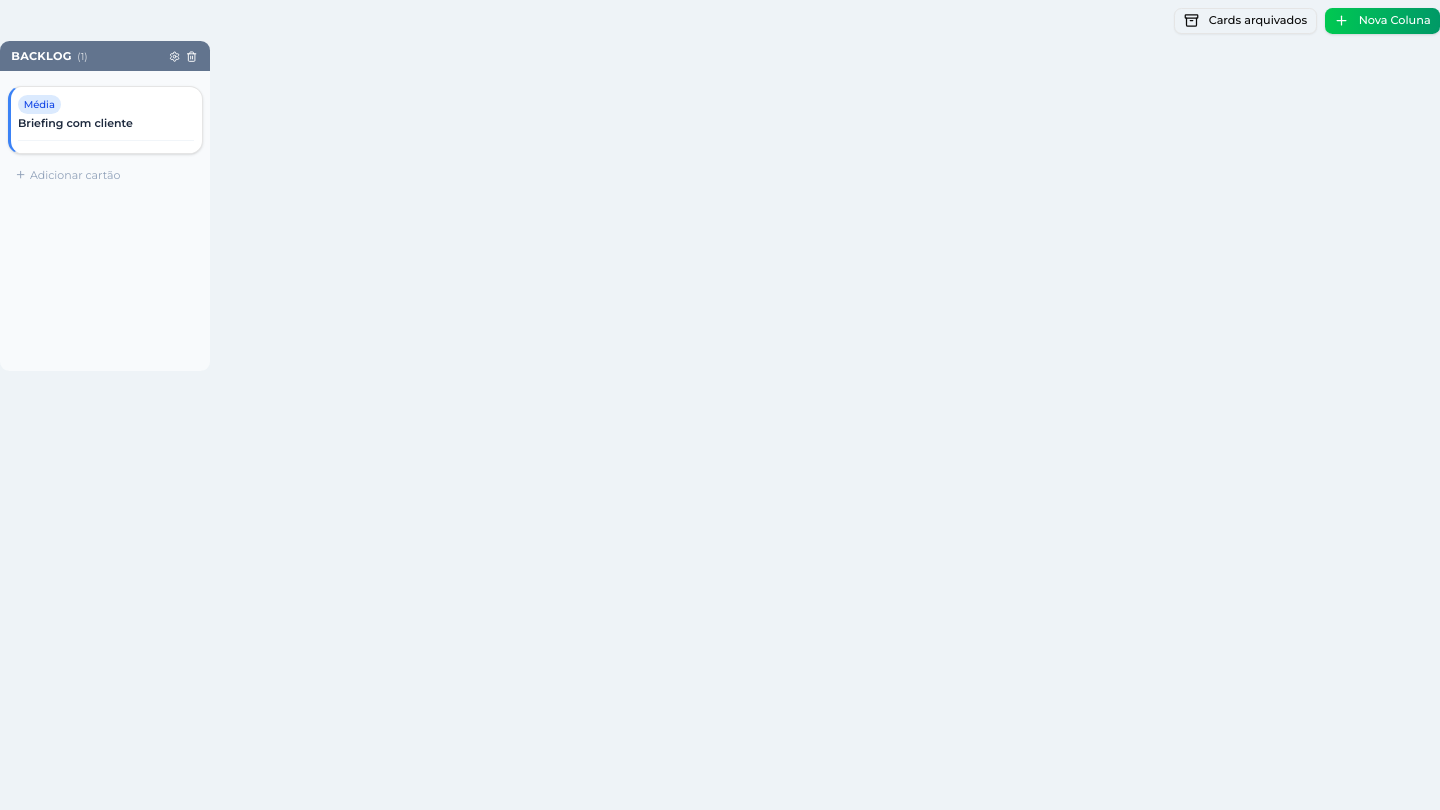
PlannerBoard — editar card › 6. edição persiste — abrir pelo título, mudar e salvar reflete no quadro
The image size is (1440, 810).
Click the heading "Briefing com cliente": (75, 123) 18,116 -> 133,130
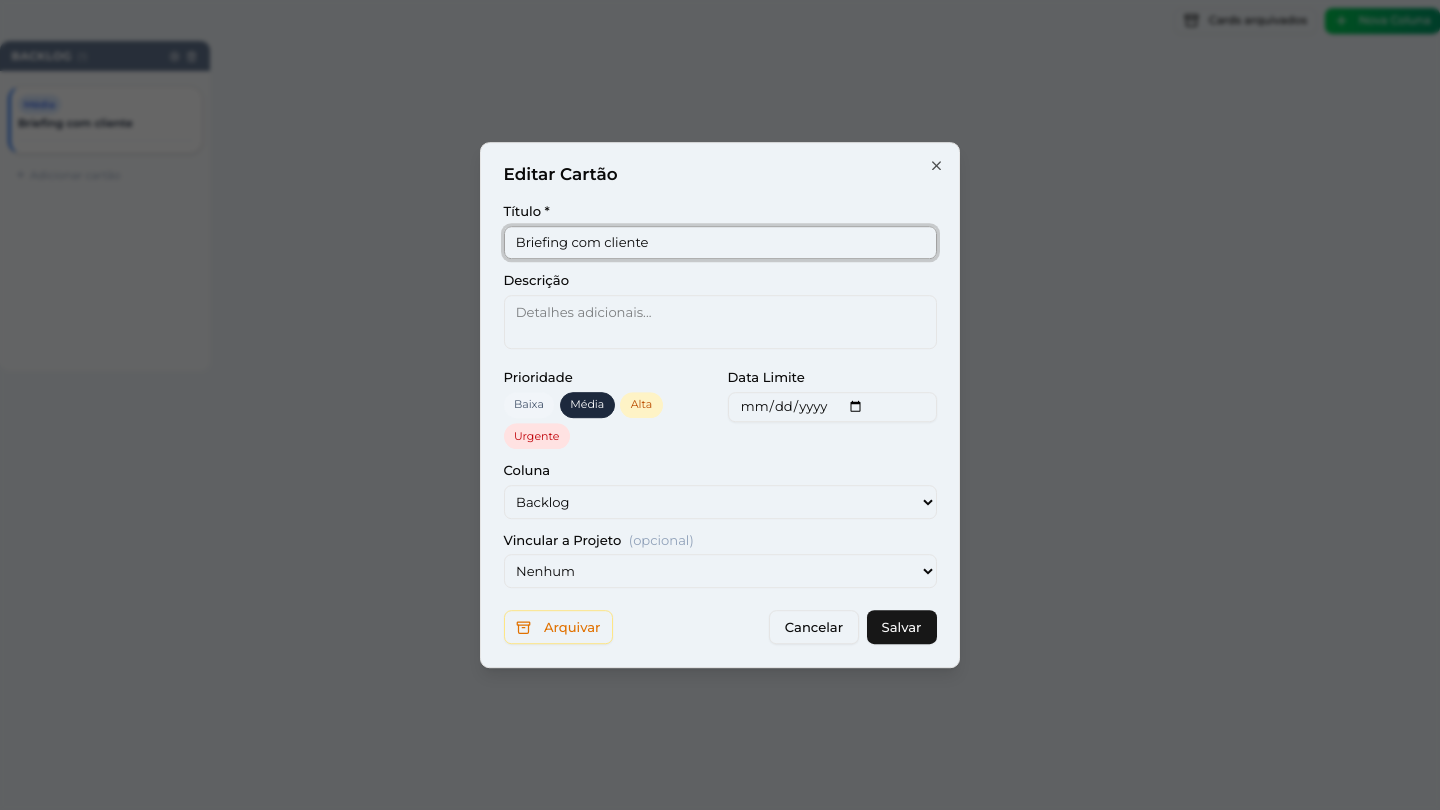
Replace the text in the field showing "Briefing com cliente" with "Briefing revisado": (720, 243) 504,226 -> 936,260
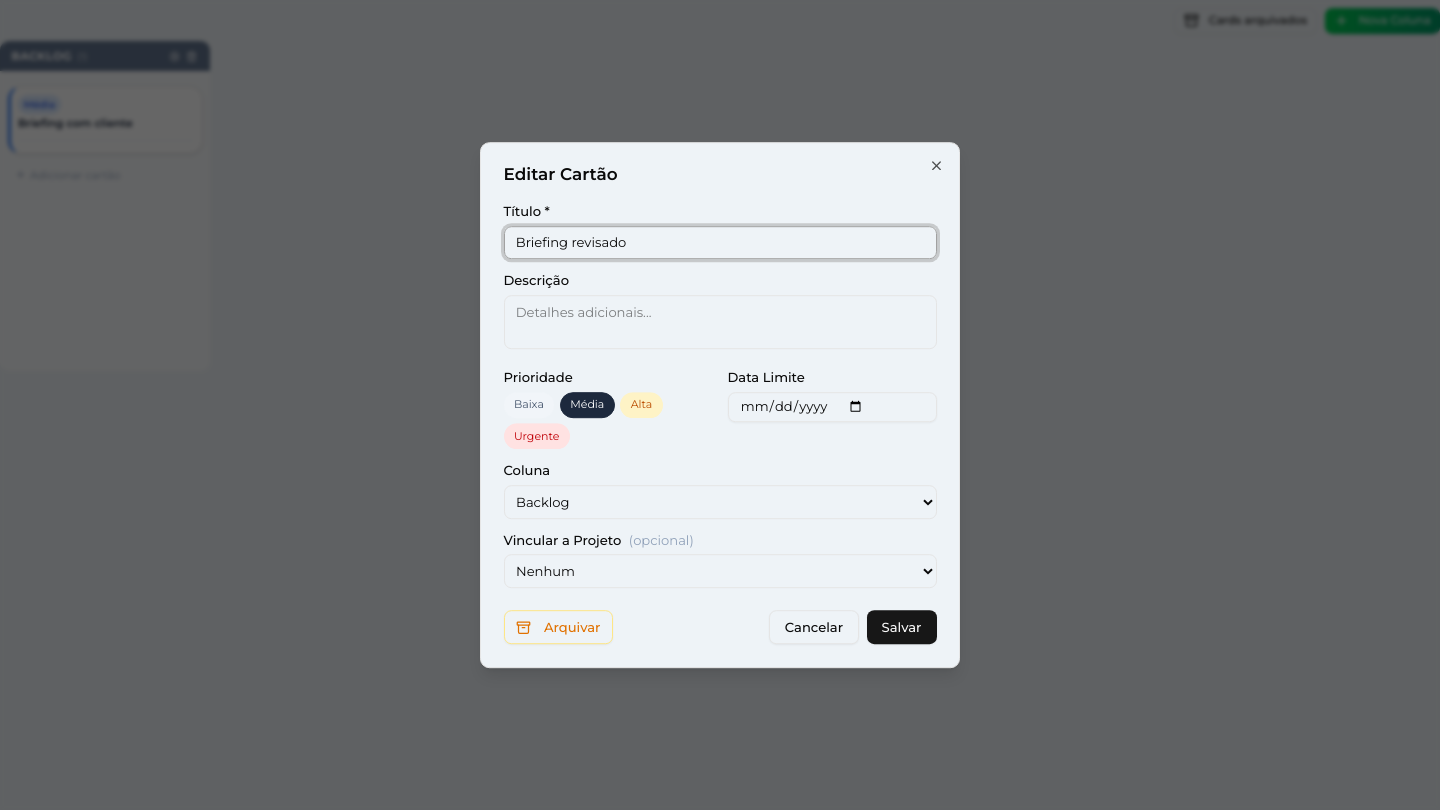
Click the button "Salvar": (902, 628) 867,611 -> 936,644
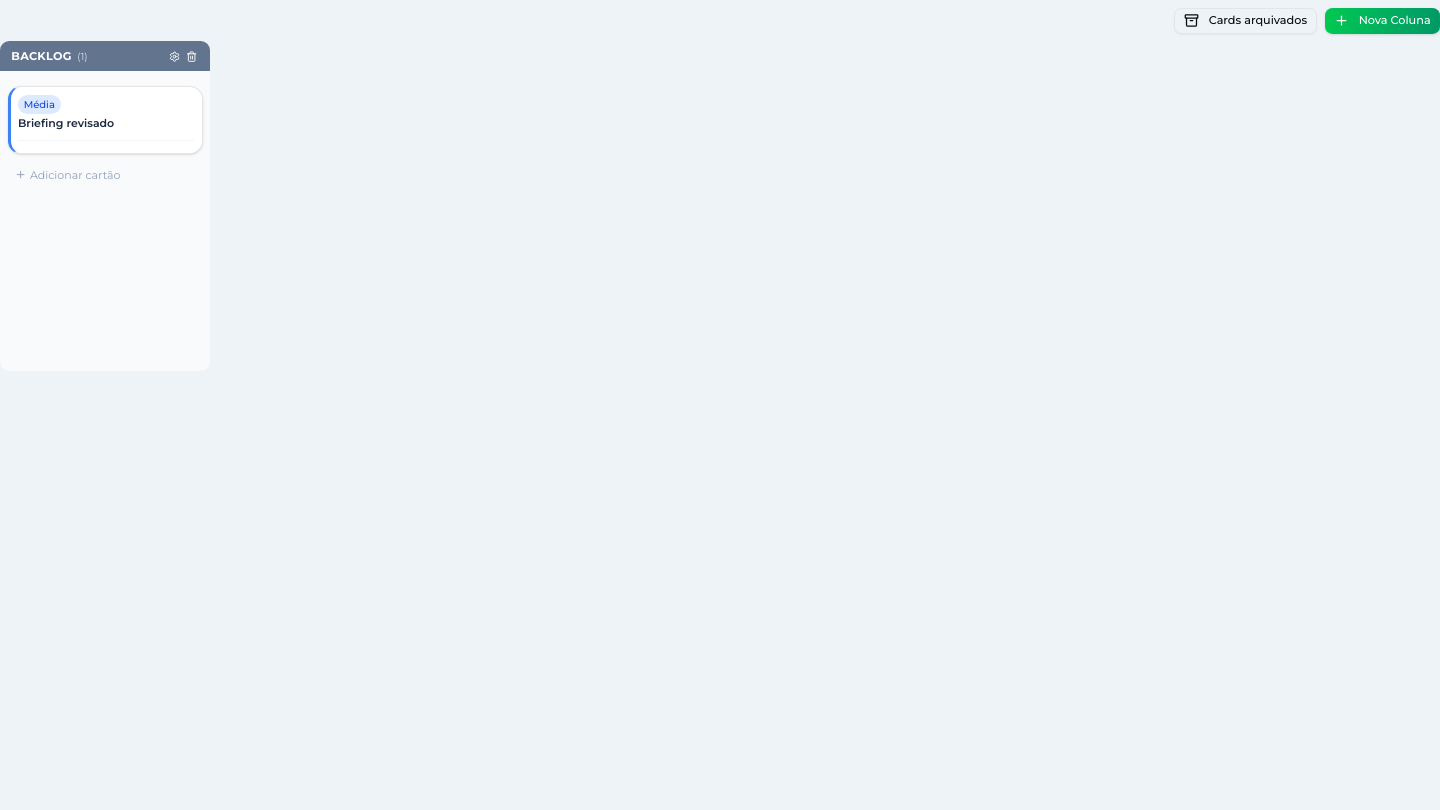
Expected: the heading "Briefing revisado" is shown, 18,116 -> 114,130
